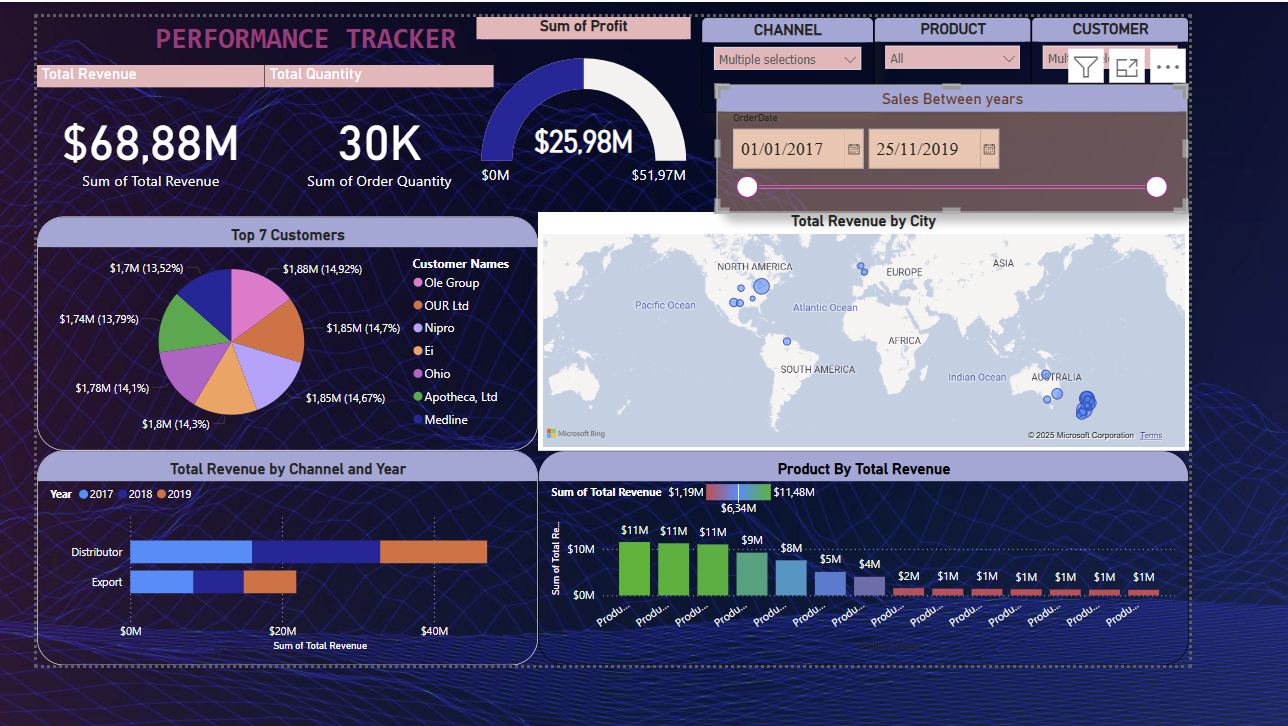

What the dashboard file says about the page in this screenshot:
{"tool":"powerbi","page":{"name":"Page 1","canvas":[1280,720],"ordinal":0},"visuals":[{"type":"barChart","title":"Total Revenue by Channel and Year","fields":{"Category":["Sales_Data.Channel","Sales_Data.OrderDate.Variation.Date Hierarchy.Year"],"Y":["Sum(Sales_Data.Total Revenue)"],"Series":["Sales_Data.OrderDate.Variation.Date Hierarchy.Year"]},"box":[0,481.7,556.7,238.3],"z":0},{"type":"columnChart","title":"Product By Total Revenue","fields":{"Category":["Products_Data.Product Name"],"Y":["Sum(Sales_Data.Total Revenue)"]},"box":[556.7,481.7,723.3,238.3],"z":1000},{"type":"pieChart","title":"Top 7 Customers","fields":{"Category":["Customer_Data.Customer Names"],"Y":["Sum(Sales_Data.Total Revenue)"]},"box":[0,221.7,556.7,260],"z":2000},{"type":"map","title":" Total Revenue by City","fields":{"Category":["Regions_Table.City"],"Size":["Sum(Sales_Data.Total Revenue)"]},"box":[557,217,723.8,265.6],"z":3000},{"type":"card","title":"Total Revenue","fields":{"Values":["Sum(Sales_Data.Total Revenue)"]},"box":[0,53.4,252.6,160.3],"z":4000},{"type":"card","title":"Total Quantity","fields":{"Values":["Sum(Sales_Data.Order Quantity)"]},"box":[252.6,53.4,254.2,160.3],"z":5000},{"type":"gauge","fields":{"Y":["Sum(Sales_Data.Profit)"]},"box":[489,0,238,217],"z":6000},{"type":"slicer","title":"Sales Between years","fields":{"Values":["Sales_Data.OrderDate"]},"box":[754.6,74.5,523,142.5],"z":7000},{"type":"slicer","title":"CHANNEL","fields":{"Values":["Sales_Data.Channel"]},"box":[738.4,0,191.1,106.9],"z":8000},{"type":"slicer","title":"CUSTOMER","fields":{"Values":["Customer_Data.Customer Names"]},"box":[1104.3,0,174.9,108.5],"z":9000},{"type":"slicer","title":"PRODUCT","fields":{"Values":["Products_Data.Product Name"]},"box":[929.4,0,174.9,108.5],"z":10000},{"type":"textbox","box":[72.9,0,450.1,56.7],"z":11000}]}

Visuals, with their boxes in screenshot pixels (x1, y1, x2, y2), scaled from the page's 1280x720 canvas onto the 1288x726 screenshot:
"Total Revenue by Channel and Year" barChart: <bbox>0, 486, 560, 725</bbox>
"Product By Total Revenue" columnChart: <bbox>560, 486, 1287, 725</bbox>
"Top 7 Customers" pieChart: <bbox>0, 224, 560, 486</bbox>
" Total Revenue by City" map: <bbox>560, 219, 1287, 487</bbox>
"Total Revenue" card: <bbox>0, 54, 254, 215</bbox>
"Total Quantity" card: <bbox>254, 54, 510, 215</bbox>
gauge - Sum(Sales_Data.Profit): <bbox>492, 0, 732, 219</bbox>
"Sales Between years" slicer: <bbox>759, 75, 1286, 219</bbox>
"CHANNEL" slicer: <bbox>743, 0, 935, 108</bbox>
"CUSTOMER" slicer: <bbox>1111, 0, 1287, 109</bbox>
"PRODUCT" slicer: <bbox>935, 0, 1111, 109</bbox>
textbox: <bbox>73, 0, 526, 57</bbox>
